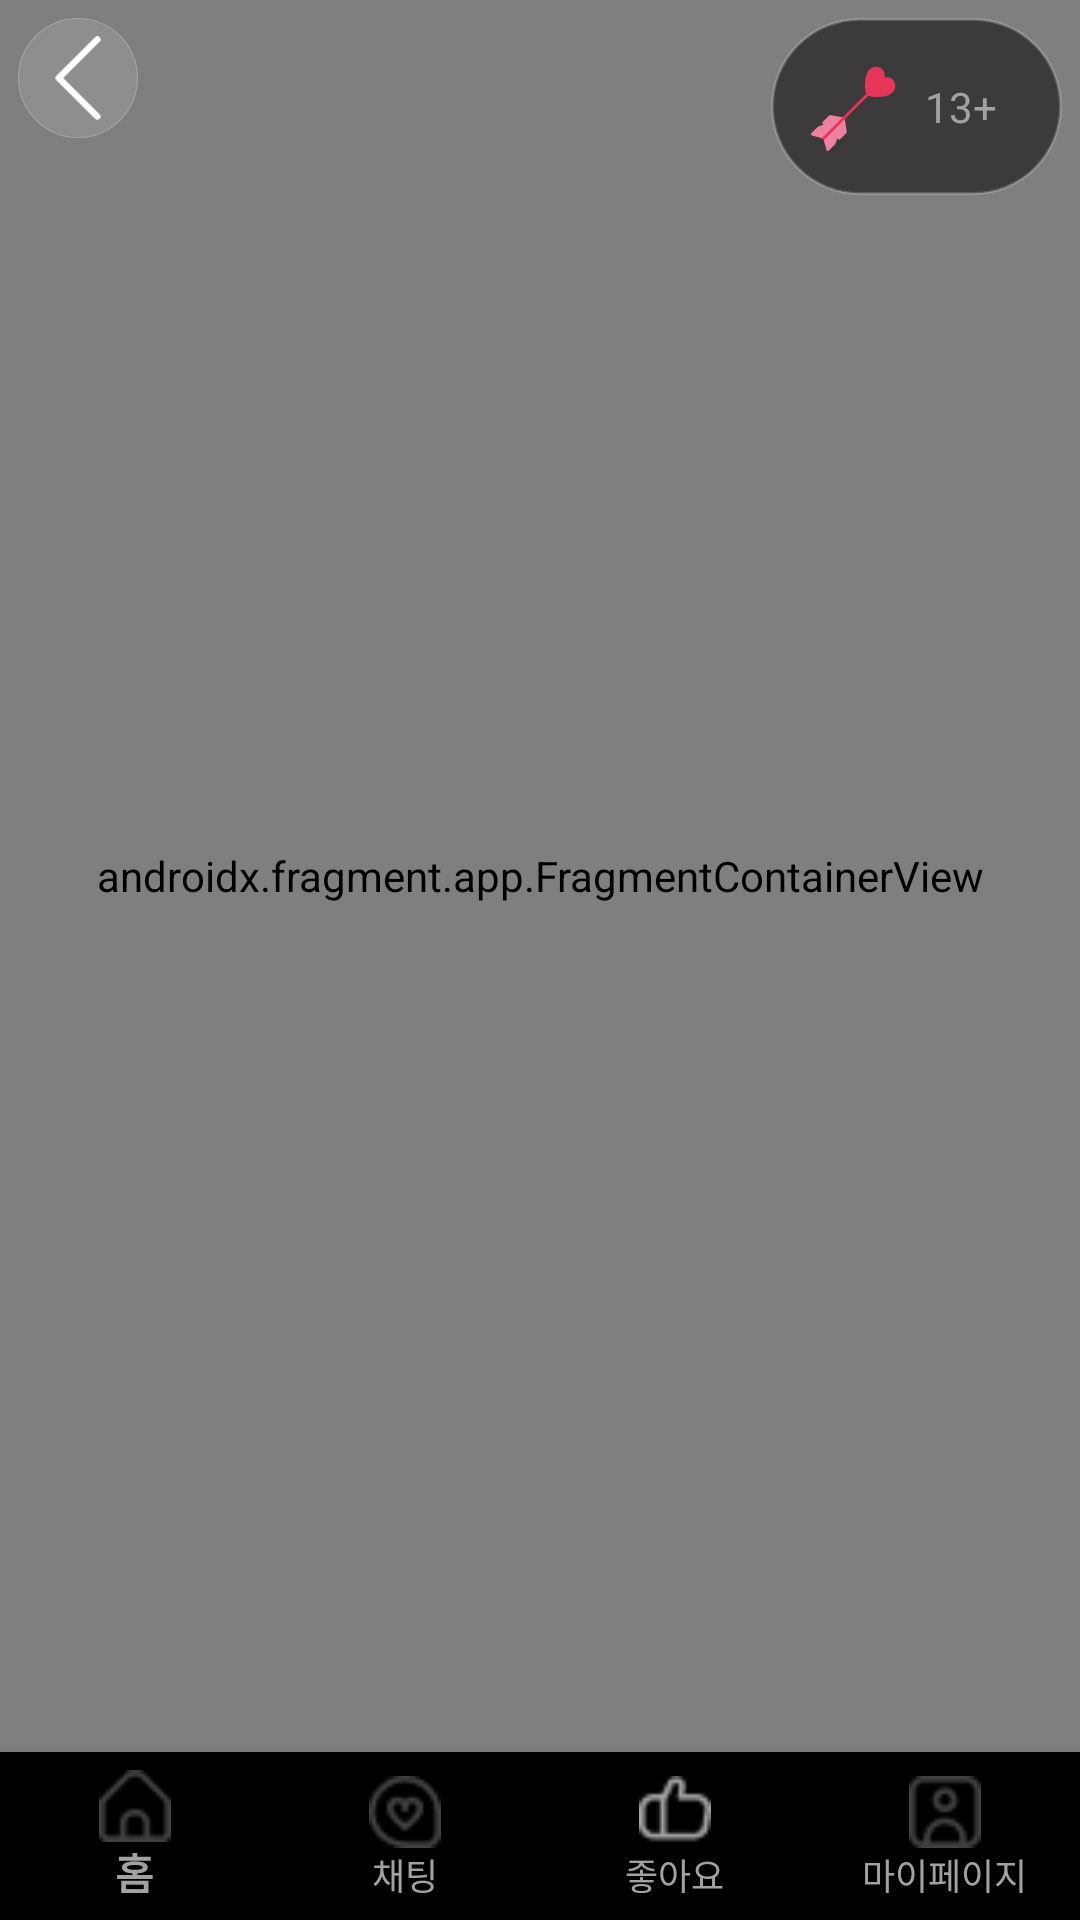

Where to tap for icons on this 1080px×1920px app screen, as (x,y):
heartcash: (853,108)
